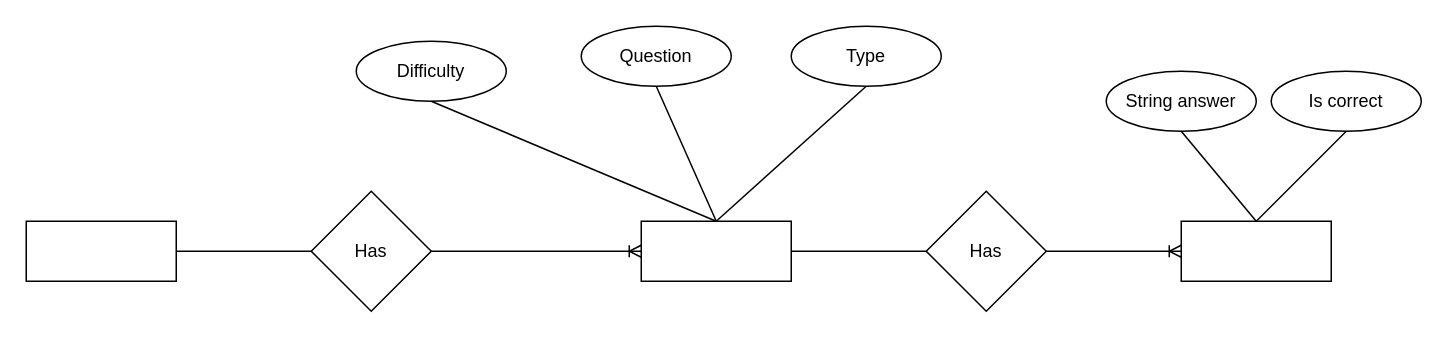
The diagram is 1448 pixels wide and 338 high, and some of its shapes have lost their labels. Here are the shapes that lost their labels. From the top down, the centre of each, then its label:
[100,250]: Category
[715,250]: Quiz
[1255,250]: Answer
